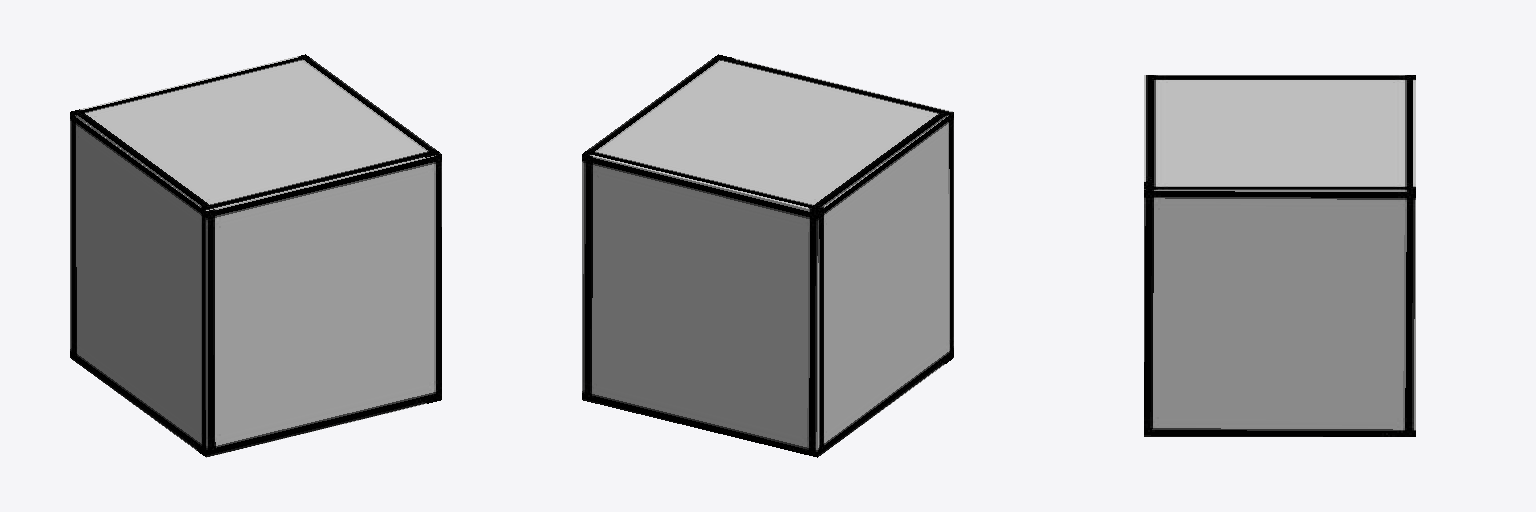
3 renders of one model, left to right at view 1: azimuth 30°, elevation 25°; view 2: azimuth 150°, elevation 25°; view 3: azimuth 270°, elevation 25°, orthographic.
Visible parts, largest first — view 1: Cube.022; view 2: Cube.022; view 3: Cube.022.
Part boxes in pixels (x1,y1,x2,y2): Cube.022: (70,54,441,457); Cube.022: (582,54,953,457); Cube.022: (1144,75,1415,436).
Bounding box in the file's own units: 1.03 × 1.03 × 1.03.
2 materials, 2 textured.